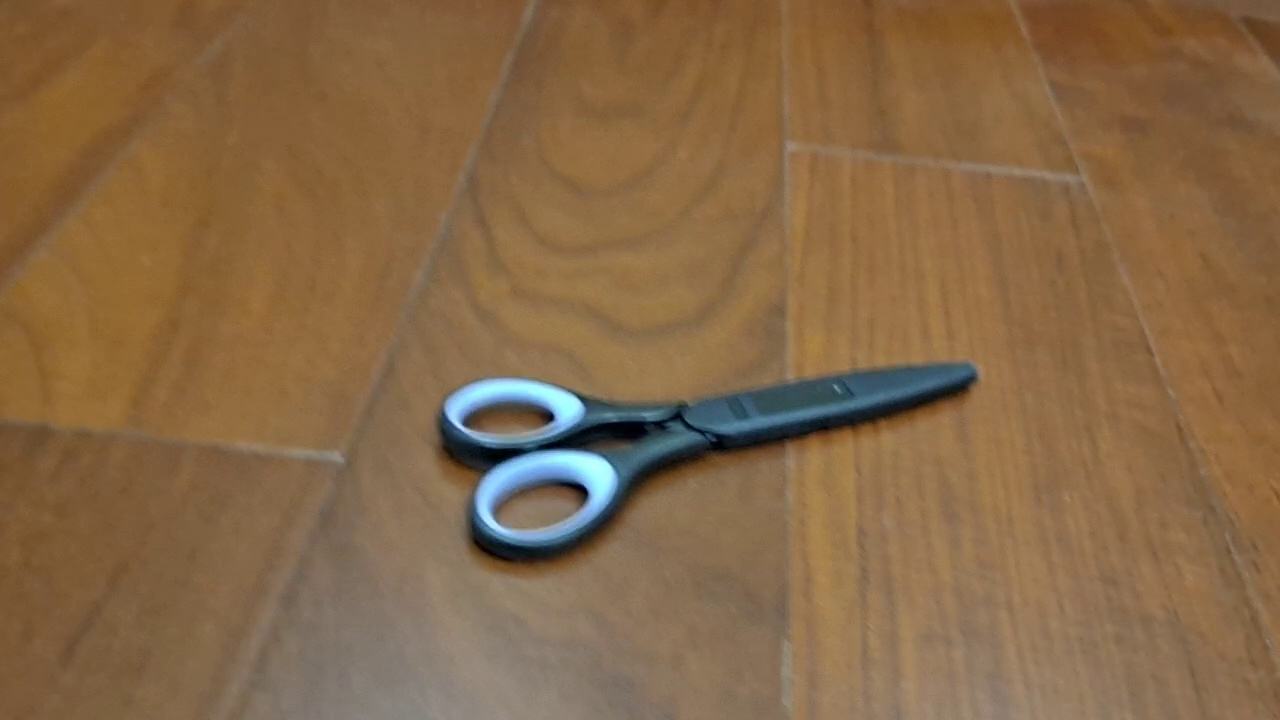scissors: (432, 358, 980, 562)
